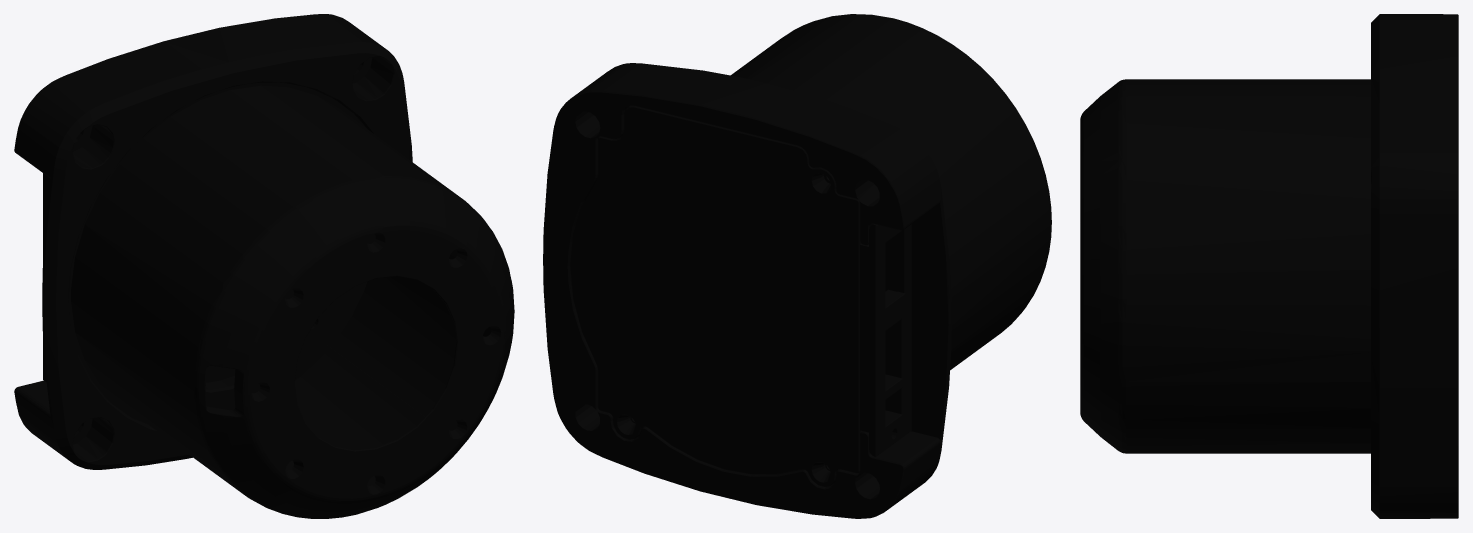
The model's file is right_arm_base_link.obj.
The picture shows the model from 3 angles, left to right: view 1: azimuth 30°, elevation 25°; view 2: azimuth 150°, elevation 25°; view 3: azimuth 270°, elevation 25°; orthographic projection.
Visible parts, largest first — view 1: right_arm_base_link; view 2: right_arm_base_link; view 3: right_arm_base_link.
Part boxes in pixels (x1=…): right_arm_base_link: x1=14, y1=14, x2=514, y2=518; right_arm_base_link: x1=543, y1=14, x2=1051, y2=518; right_arm_base_link: x1=1080, y1=14, x2=1458, y2=518.
Size of the model in its own units: 0.0993 by 0.0993 by 0.0862.
